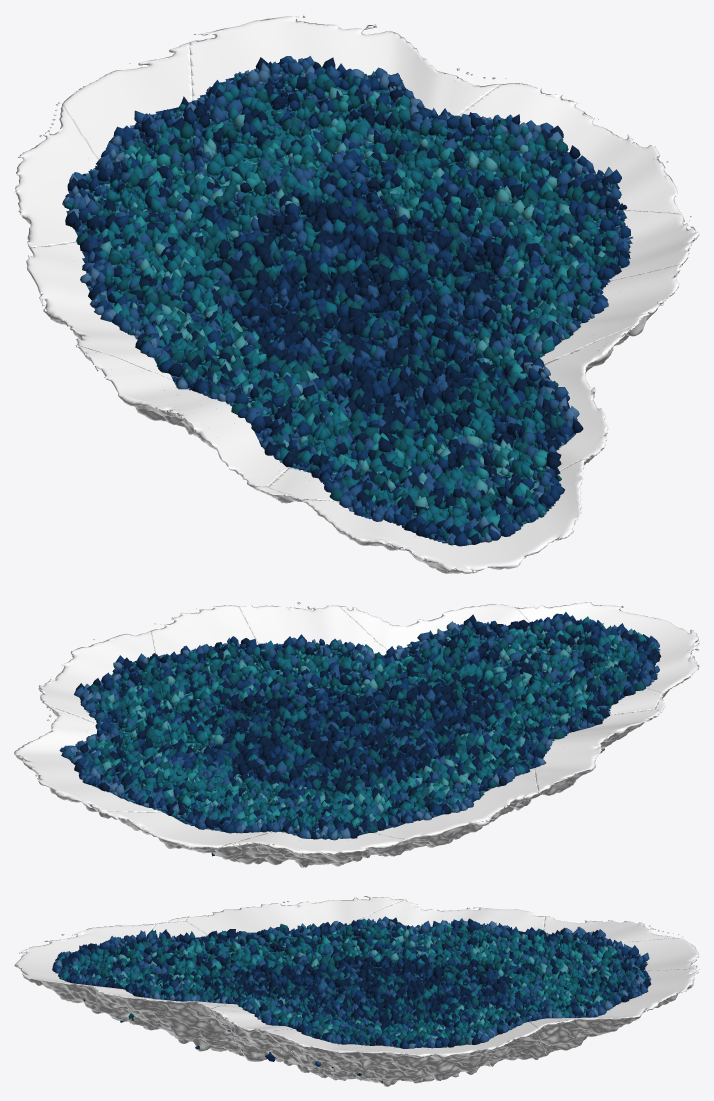
File: fragments.glb
The picture shows the model from 3 angles, top to bottom: view 1: azimuth 30°, elevation 25°; view 2: azimuth 150°, elevation 25°; view 3: azimuth 270°, elevation 25°; orthographic projection. The views are drawn at different scales.
Parts seen in each view (by area): view 1: Cover fragment 10.001, Cover fragment 06.001, Cover fragment 01.001, Cover fragment 09.001, Cover fragment 02.001, Cover fragment 03.001, Cover fragment 00.001, Cover fragment 04.001, Cover fragment 08.001, Cover fragment 07.001; view 2: Cover fragment 10.001, Cover fragment 01.001, Cover fragment 09.001, Cover fragment 02.001, Cover fragment 06.001, Cover fragment 03.001, Cover fragment 00.001, Cover fragment 08.001, Cover fragment 04.001, Cover fragment 07.001; view 3: Cover fragment 10.001, Cover fragment 09.001, Cover fragment 02.001, Cover fragment 01.001, Cover fragment 06.001, Cover fragment 03.001, Cover fragment 00.001, Cover fragment 04.001, Cover fragment 08.001, Cover fragment 07.001.
Part boxes in pixels (bbox=[...]): Cover fragment 10.001: bbox=[87, 163, 699, 303]; Cover fragment 06.001: bbox=[189, 14, 506, 178]; Cover fragment 01.001: bbox=[221, 264, 681, 410]; Cover fragment 09.001: bbox=[268, 325, 635, 506]; Cover fragment 02.001: bbox=[26, 232, 357, 442]; Cover fragment 03.001: bbox=[387, 83, 682, 214]; Cover fragment 00.001: bbox=[302, 458, 589, 573]; Cover fragment 04.001: bbox=[75, 345, 334, 502]; Cover fragment 08.001: bbox=[62, 42, 194, 208]; Cover fragment 07.001: bbox=[14, 102, 128, 247]; Cover fragment 10.001: bbox=[151, 605, 388, 866]; Cover fragment 01.001: bbox=[238, 602, 489, 780]; Cover fragment 09.001: bbox=[339, 604, 662, 720]; Cover fragment 02.001: bbox=[362, 712, 543, 857]; Cover fragment 06.001: bbox=[14, 703, 246, 837]; Cover fragment 03.001: bbox=[38, 631, 171, 748]; Cover fragment 00.001: bbox=[515, 602, 699, 698]; Cover fragment 08.001: bbox=[101, 802, 321, 867]; Cover fragment 04.001: bbox=[520, 709, 660, 795]; Cover fragment 07.001: bbox=[219, 816, 407, 867]; Cover fragment 10.001: bbox=[264, 930, 572, 1086]; Cover fragment 09.001: bbox=[94, 921, 260, 1056]; Cover fragment 02.001: bbox=[253, 899, 545, 971]; Cover fragment 01.001: bbox=[210, 956, 435, 1080]; Cover fragment 06.001: bbox=[511, 962, 699, 1055]; Cover fragment 03.001: bbox=[336, 1007, 546, 1082]; Cover fragment 00.001: bbox=[14, 924, 155, 1013]; Cover fragment 04.001: bbox=[185, 896, 405, 956]; Cover fragment 08.001: bbox=[563, 937, 699, 970]; Cover fragment 07.001: bbox=[543, 916, 682, 946].
Size of the model in its own units: 0.4344 by 0.1367 by 0.6599.
